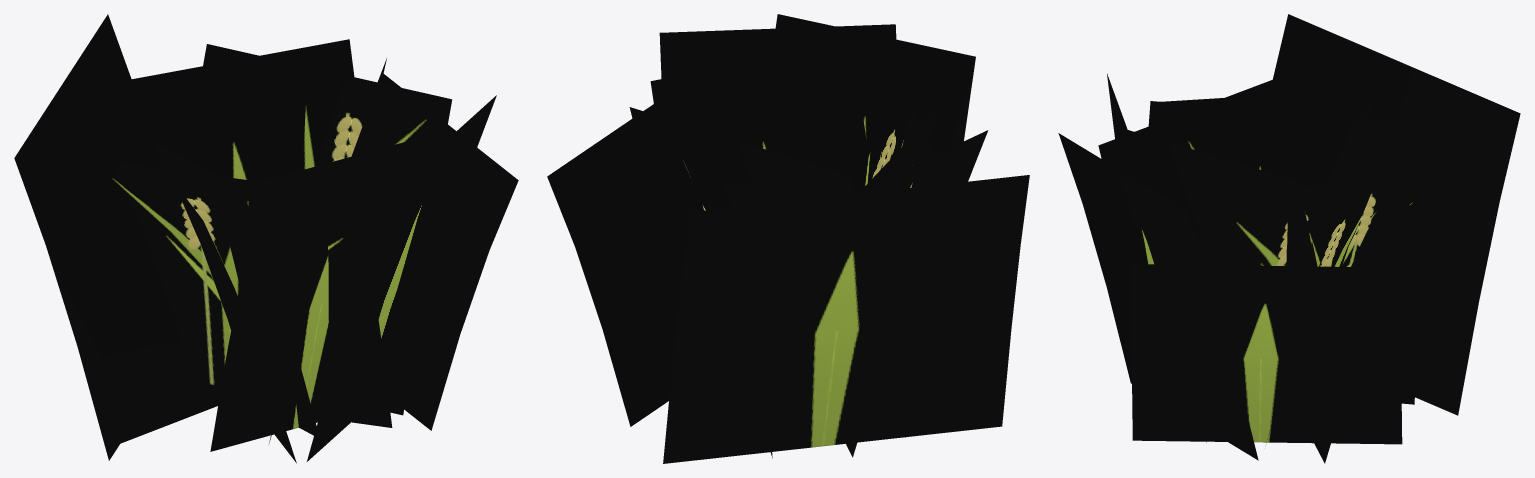
The model's file is Furn_Grass_Meadow_A.fbx.
The picture shows the model from 3 angles, left to right: view 1: azimuth 30°, elevation 25°; view 2: azimuth 150°, elevation 25°; view 3: azimuth 270°, elevation 25°; orthographic projection. The views are drawn at different scales.
Visible parts, largest first — view 1: Furn_Grass_Meadow_A; view 2: Furn_Grass_Meadow_A; view 3: Furn_Grass_Meadow_A.
Part boxes in pixels (box(x1,y1,x2,y2)): Furn_Grass_Meadow_A: box(14, 14, 518, 463); Furn_Grass_Meadow_A: box(547, 14, 1029, 463); Furn_Grass_Meadow_A: box(1058, 14, 1520, 463).
Bounding box in the file's own units: 0.5 × 0.34 × 0.5.
1 material, 1 textured.
